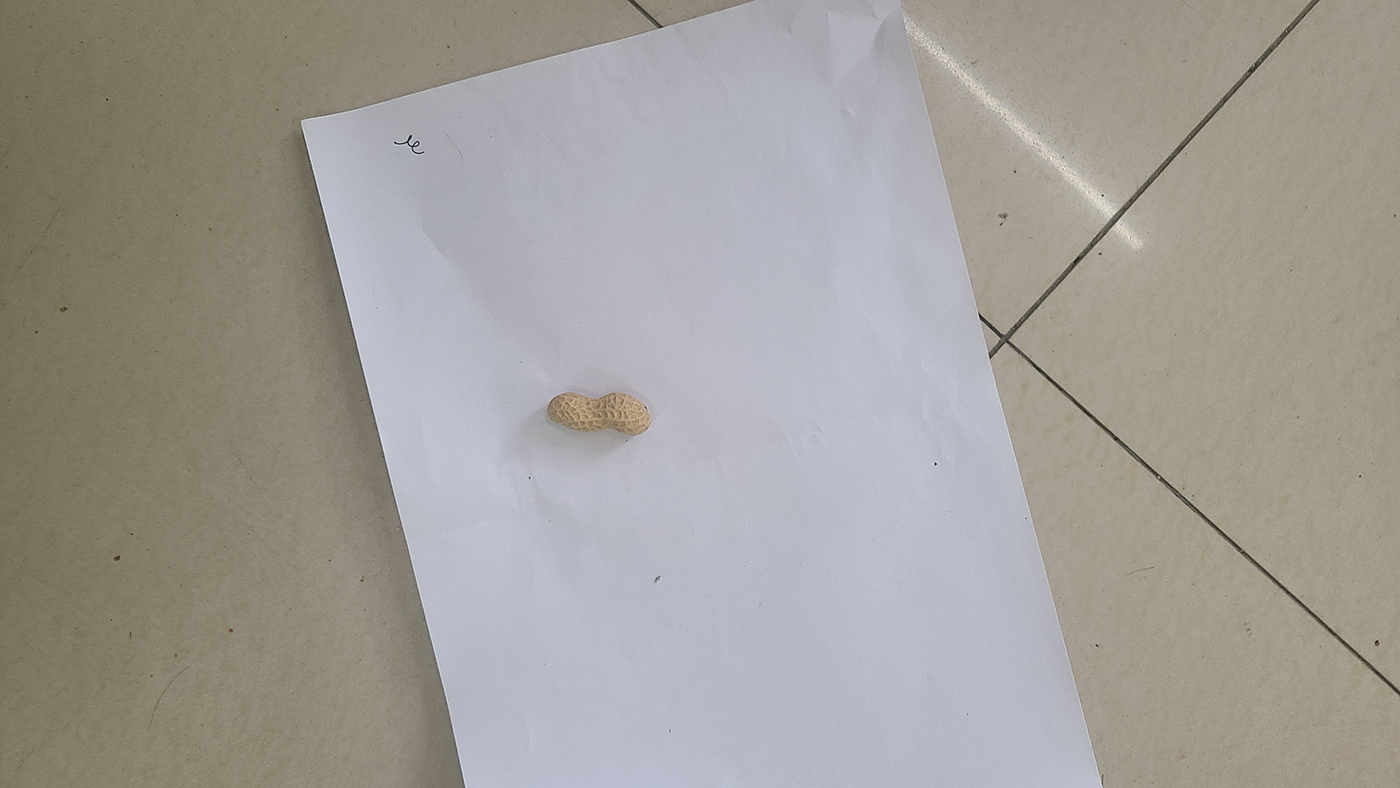h: (547, 391, 651, 436)
